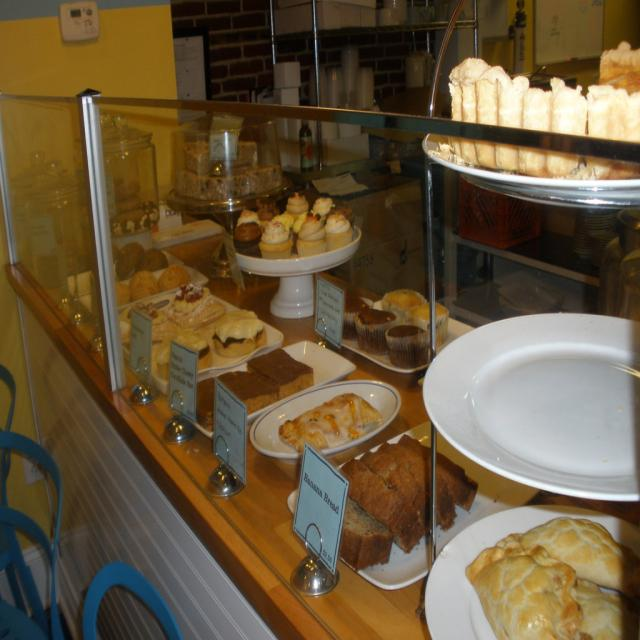non-organic waste: (458, 303, 640, 537)
